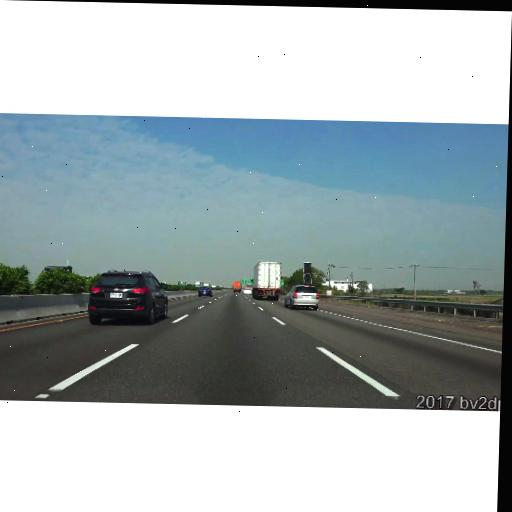Car: (88, 270, 168, 326), (251, 262, 280, 300), (283, 285, 319, 311), (199, 286, 212, 297), (232, 280, 241, 293), (243, 287, 252, 294)
